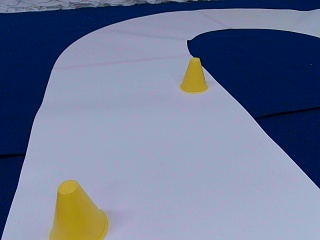cone: (49, 181, 108, 238), (179, 58, 207, 92)
